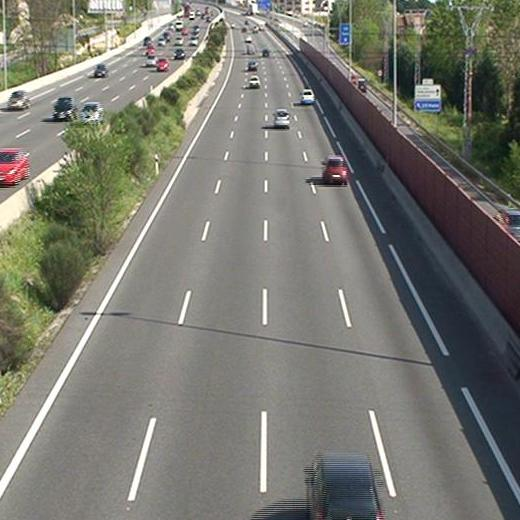car: (306, 456, 383, 520), (323, 157, 347, 183), (274, 109, 290, 128), (300, 90, 313, 103), (249, 76, 260, 87), (247, 60, 258, 70)
